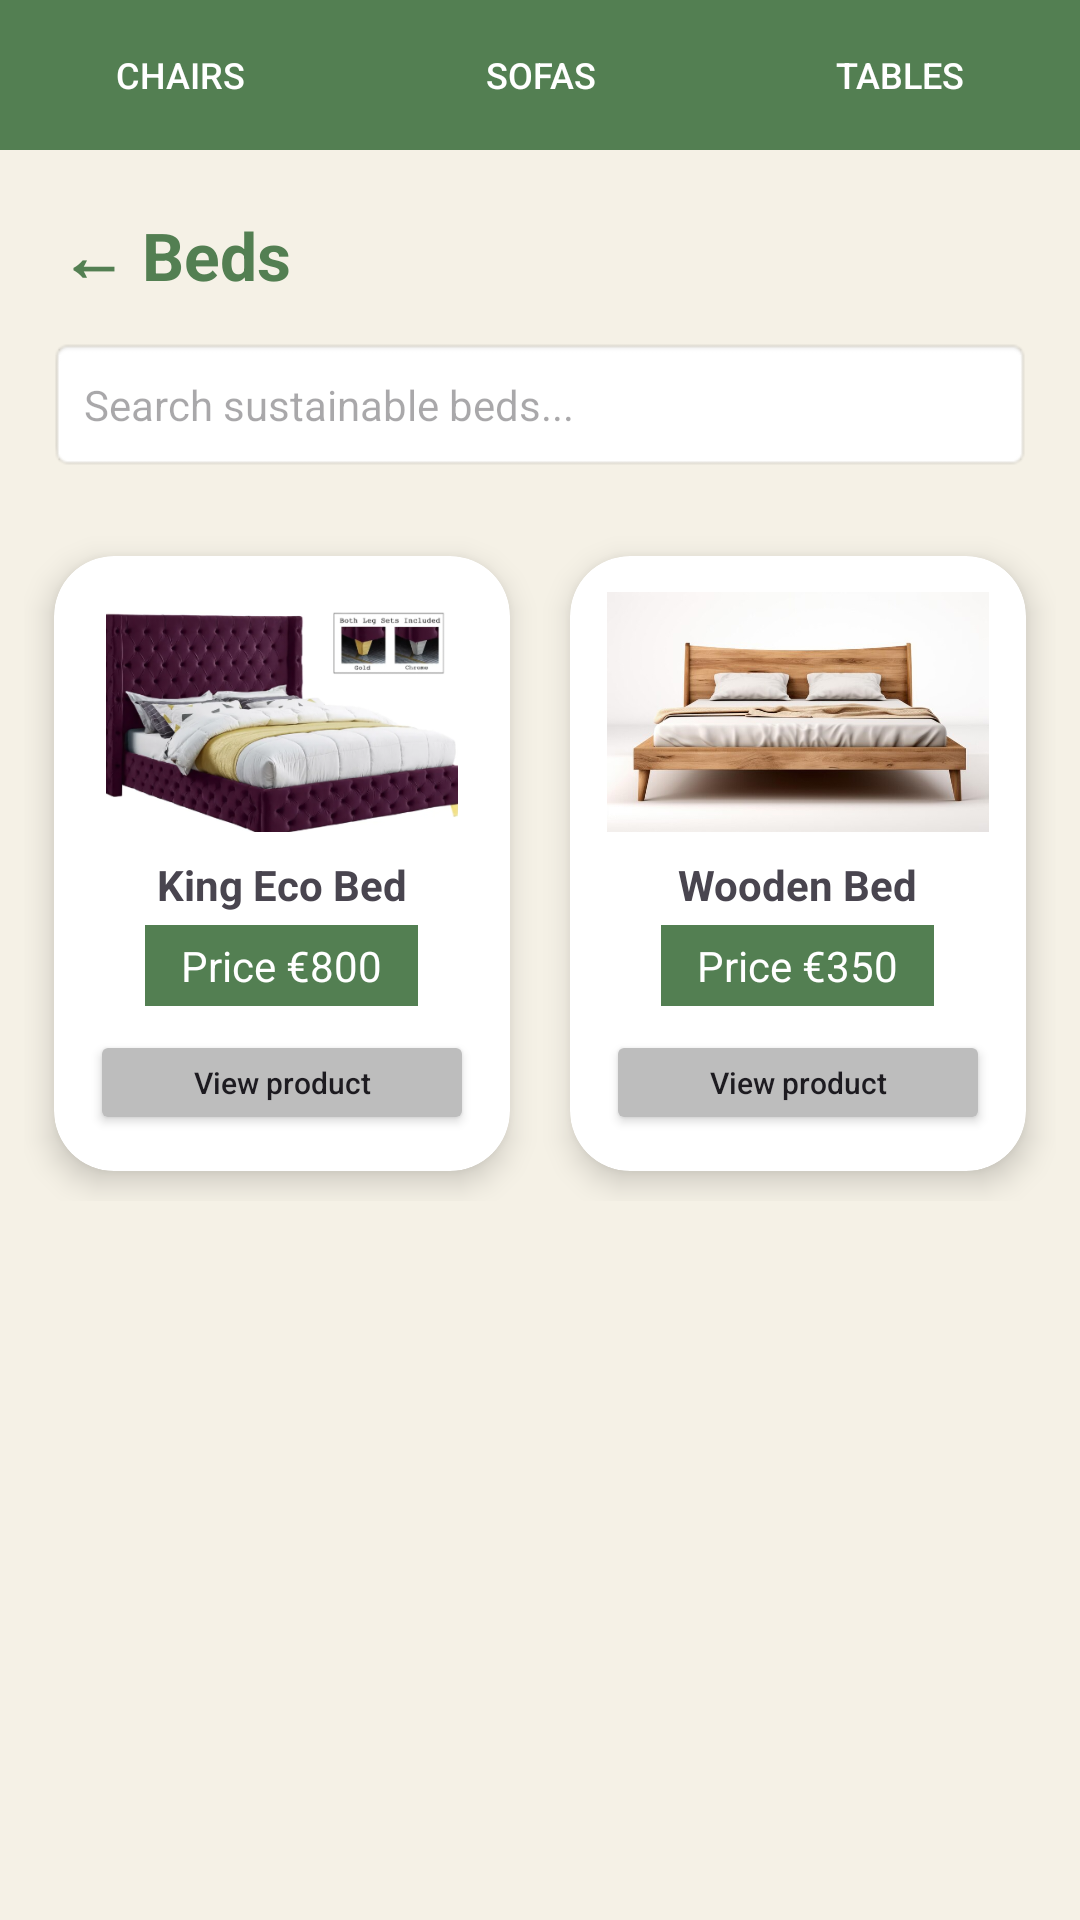

Point at icon controls on the screen. Image size 1080 × 1920, points as point (x, y).
velvet: point (282, 722)
